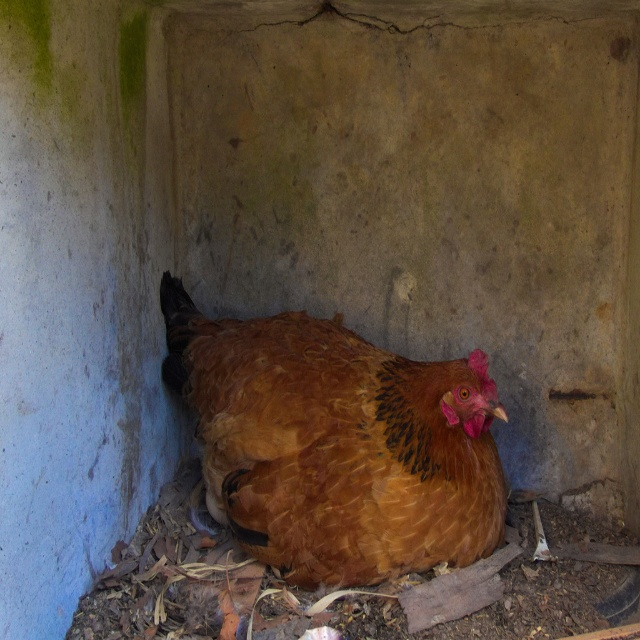Chicken: (162, 293, 526, 605)
